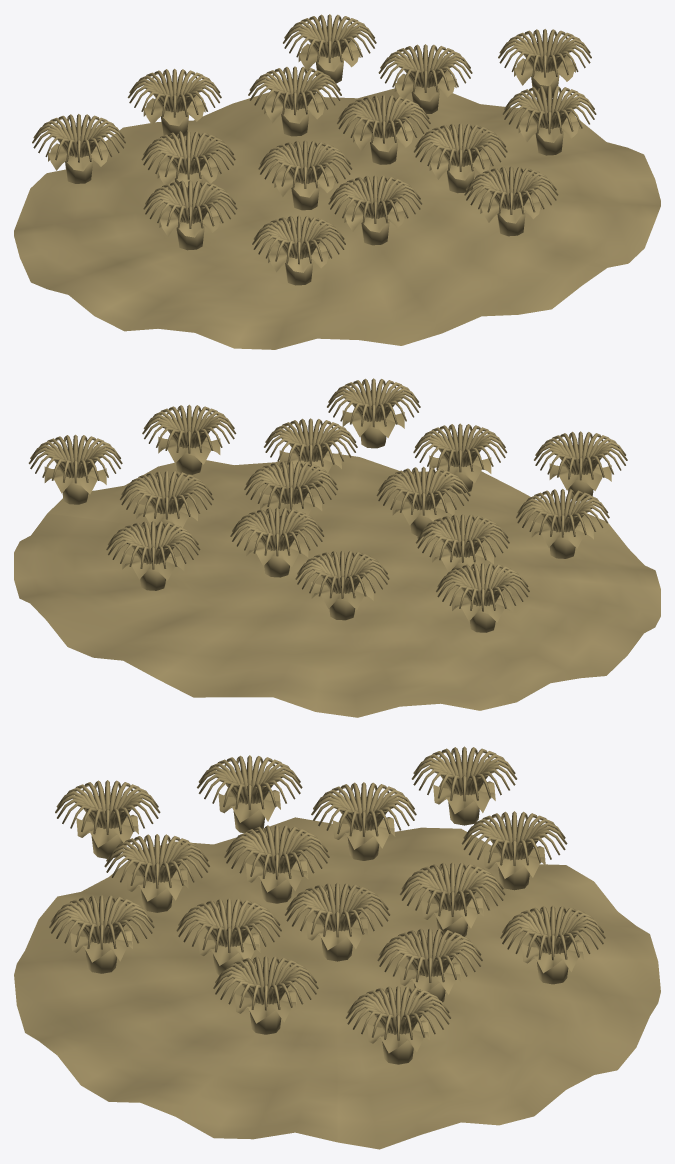
Rendered from zoa-mobile.glb.
The picture shows the model from 3 angles, top to bottom: view 1: azimuth 30°, elevation 25°; view 2: azimuth 150°, elevation 25°; view 3: azimuth 270°, elevation 25°; orthographic projection. The views are drawn at different scales.
Visible parts, largest first — view 1: encrusting-mat, polyp-tentacle, polyp-column; view 2: encrusting-mat, polyp-tentacle, polyp-column; view 3: encrusting-mat, polyp-tentacle, polyp-column.
Part boxes in pixels (left/top/right/bottom): encrusting-mat: left=14, top=40, right=660, bottom=349; polyp-tentacle: left=32, top=14, right=596, bottom=264; polyp-column: left=65, top=60, right=563, bottom=285; encrusting-mat: left=14, top=410, right=660, bottom=717; polyp-tentacle: left=28, top=378, right=627, bottom=611; polyp-column: left=62, top=427, right=593, bottom=632; encrusting-mat: left=14, top=779, right=660, bottom=1149; polyp-tentacle: left=49, top=746, right=605, bottom=1040; polyp-column: left=85, top=801, right=568, bottom=1064.
Size of the model in its own units: 0.64 by 0.1128 by 0.5504.
